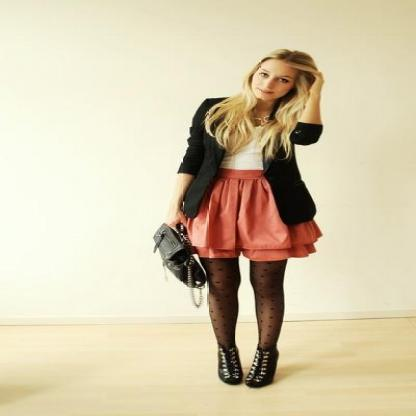bag: (153, 224, 212, 288)
jacket: (178, 98, 321, 228)
shirt: (228, 126, 276, 169)
shoe: (217, 341, 278, 387)
shorts: (167, 158, 322, 274)
